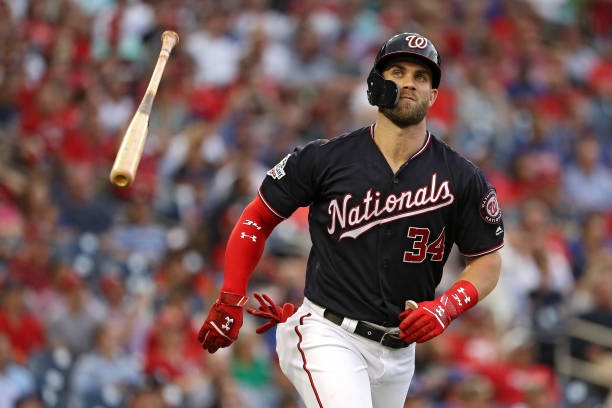bita: (106, 28, 179, 187)
